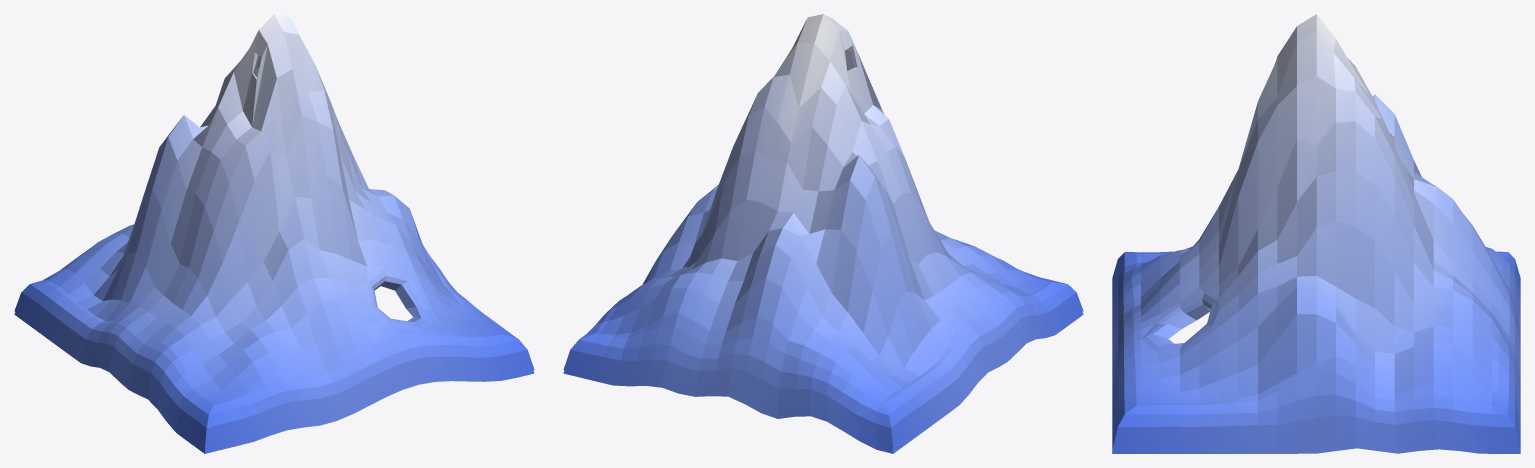
Rendered from big arkour inner moutain.fbx.
3 views of the same model, side by side, from view 1: azimuth 30°, elevation 25°; view 2: azimuth 150°, elevation 25°; view 3: azimuth 270°, elevation 25° (orthographic). The views are drawn at different scales.
Parts seen in each view (by area): view 1: pPlane2; view 2: pPlane2; view 3: pPlane2.
Part boxes in pixels (box(x1,y1,x2,y2)): pPlane2: box(14, 14, 534, 453); pPlane2: box(563, 14, 1083, 453); pPlane2: box(1112, 14, 1520, 453).
Bounding box in the file's own units: 18.82 × 18 × 18.82.
